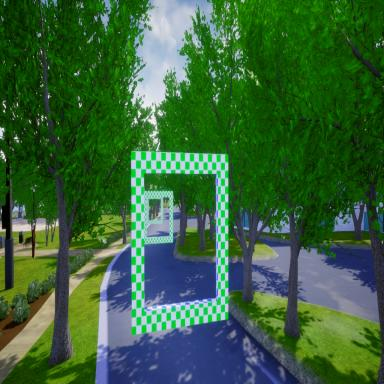gate: (131, 149, 229, 335)
